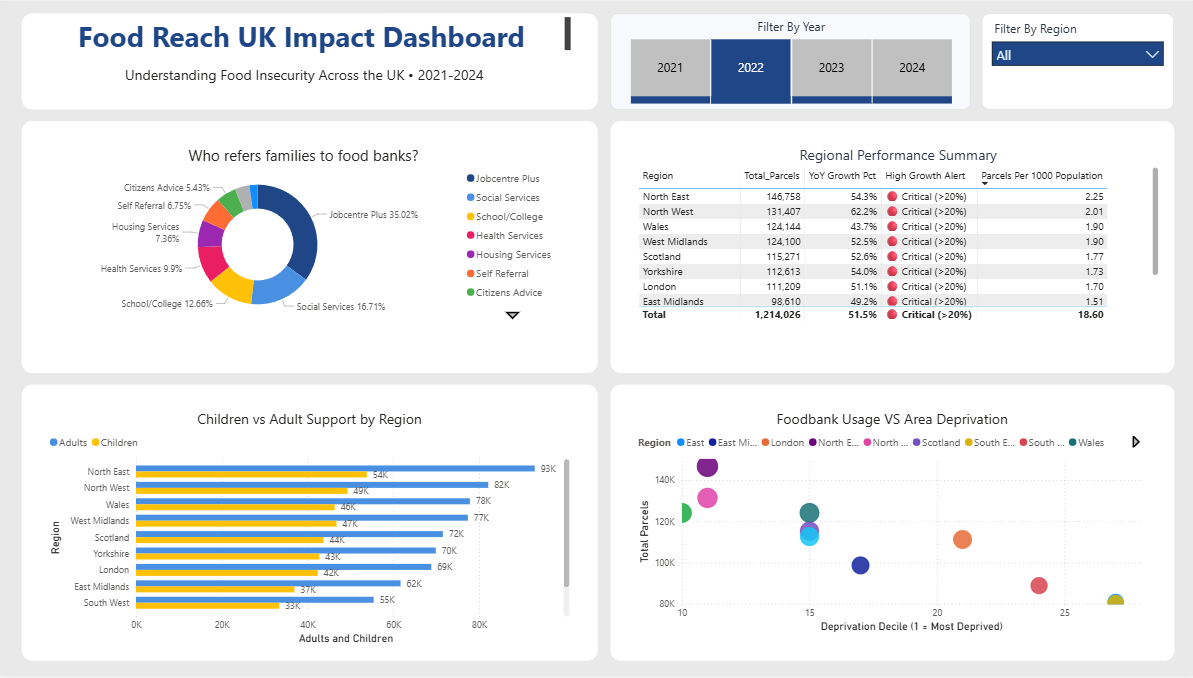

Layout of this report page (visuals, bound fields, positions):
{"tool":"powerbi","page":{"name":"Demographics Insight Page ","canvas":[1600,900],"ordinal":1},"visuals":[{"type":"shape","box":[32,16,768,128],"z":0},{"type":"shape","box":[32,160,768,336],"z":1000},{"type":"shape","box":[32,512,768,368],"z":2000},{"type":"shape","box":[816,512,752,368],"z":3000},{"type":"shape","box":[816,160,752,336],"z":3500},{"type":"donutChart","title":"Who refers families to food banks?","fields":{"Category":["Dim_refferal.Referral_Source"],"Y":["_Measures.Total_Parcels"]},"box":[64,192,688,240],"z":4000},{"type":"clusteredBarChart","title":"Children vs Adult Support by Region","fields":{"Category":["Dim_Location.Region"],"Y":["_Measures.Total Adult Parcels","_Measures.Total Children Parcel"]},"box":[64,544,704,320],"z":5000},{"type":"tableEx","title":"Regional Performance Summary","fields":{"Values":["Dim_Location.Region","_Measures.Total_Parcels","_Measures.YoY Growth Pct","_Measures.High Growth Alert","_Measures.Parcels Per 1000 Population"]},"box":[848,192,704,240],"z":6000},{"type":"scatterChart","title":"Foodbank Usage VS Area Deprivation","fields":{"X":["Sum(Dim_Location.Deprivation_Decile)"],"Y":["_Measures.Total_Parcels"],"Series":["Dim_Location.Region"],"Size":["_Measures.Total_Parcels"]},"box":[848,544,688,304],"z":7000},{"type":"textbox","box":[48,16,720,64],"z":8000},{"type":"textbox","box":[48,80,720,48],"z":9000},{"type":"slicer","fields":{"Values":["Dim_Location.Region"]},"box":[1312,16,256,128],"z":10000},{"type":"slicer","title":"Filter By Year","fields":{"Values":["Dim_Date.Year"]},"box":[816,16,480,128],"z":11000}]}

Visuals, with their boxes in screenshot pixels (x1, y1, x2, y2), scaled from the page's 1600x900 canvas onto the 1193x678 screenshot:
shape: <box>24,12,596,108</box>
shape: <box>24,121,596,374</box>
shape: <box>24,386,596,663</box>
shape: <box>608,386,1169,663</box>
shape: <box>608,121,1169,374</box>
"Who refers families to food banks?" donutChart: <box>48,145,561,325</box>
"Children vs Adult Support by Region" clusteredBarChart: <box>48,410,573,651</box>
"Regional Performance Summary" tableEx: <box>632,145,1157,325</box>
"Foodbank Usage VS Area Deprivation" scatterChart: <box>632,410,1145,639</box>
textbox: <box>36,12,573,60</box>
textbox: <box>36,60,573,96</box>
slicer - Dim_Location.Region: <box>978,12,1169,108</box>
"Filter By Year" slicer: <box>608,12,966,108</box>
